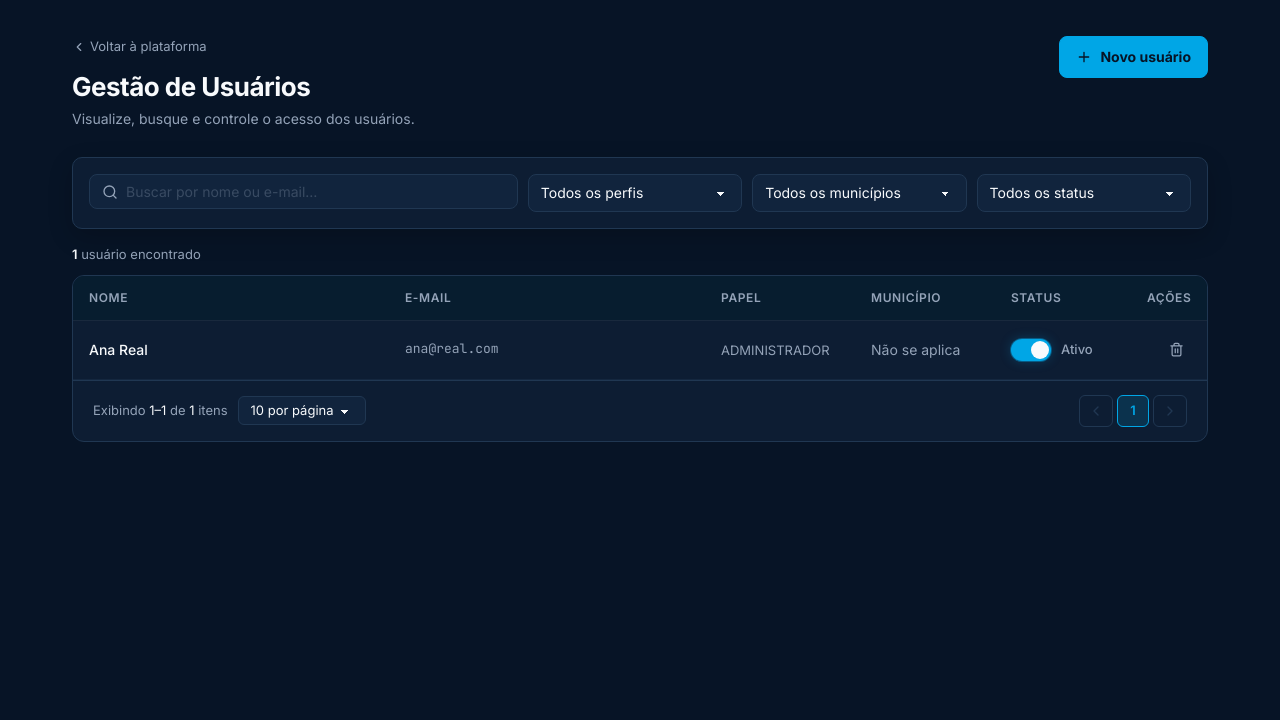
Gestão de Usuários › abre a edição clicando na linha ou no cartão, sem usar botão Editar na tabela
Later steps or results of the test are not shown.
Step 1. Click the text "Ana Real" → x=640, y=350, box [73,320,1207,379]
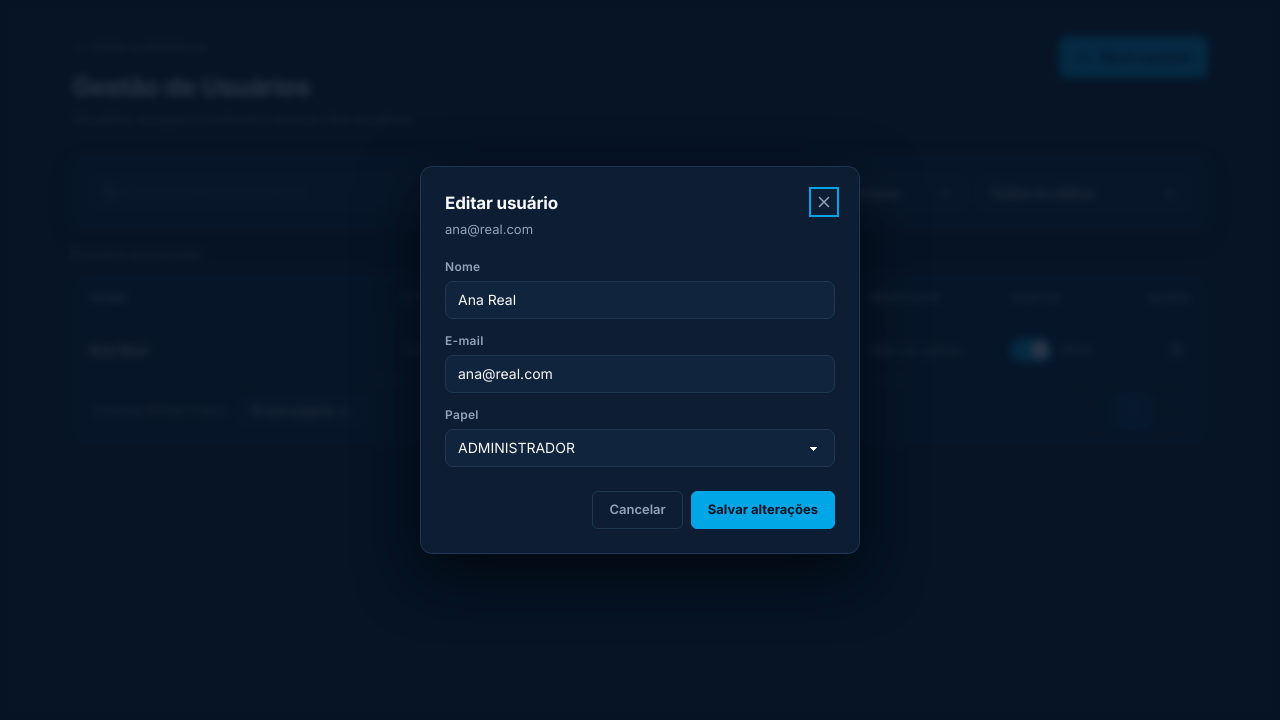
Now the dialog "Editar usuário" is shown
